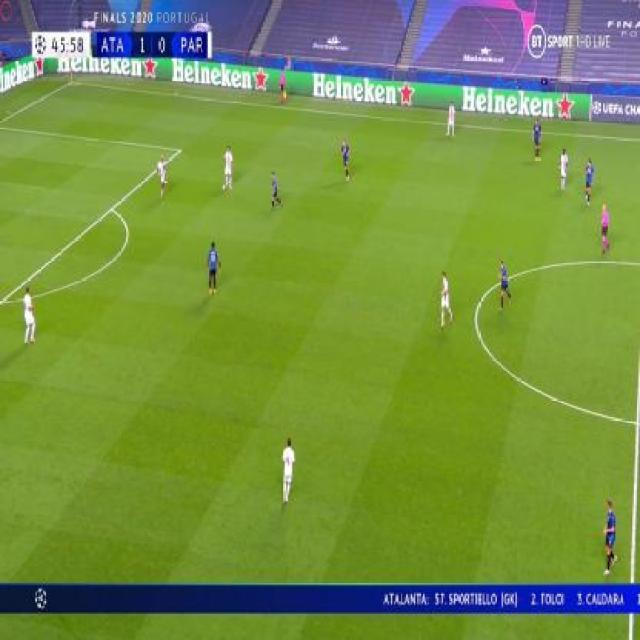player: (601, 494, 618, 576), (281, 433, 297, 504), (21, 284, 38, 346), (438, 269, 454, 329), (205, 239, 221, 298), (496, 257, 512, 311), (220, 141, 234, 192), (582, 155, 596, 206), (598, 200, 611, 254), (155, 150, 169, 199), (268, 169, 284, 211), (556, 145, 569, 191), (530, 116, 543, 161), (339, 138, 352, 181), (446, 97, 457, 137), (277, 66, 288, 105)
